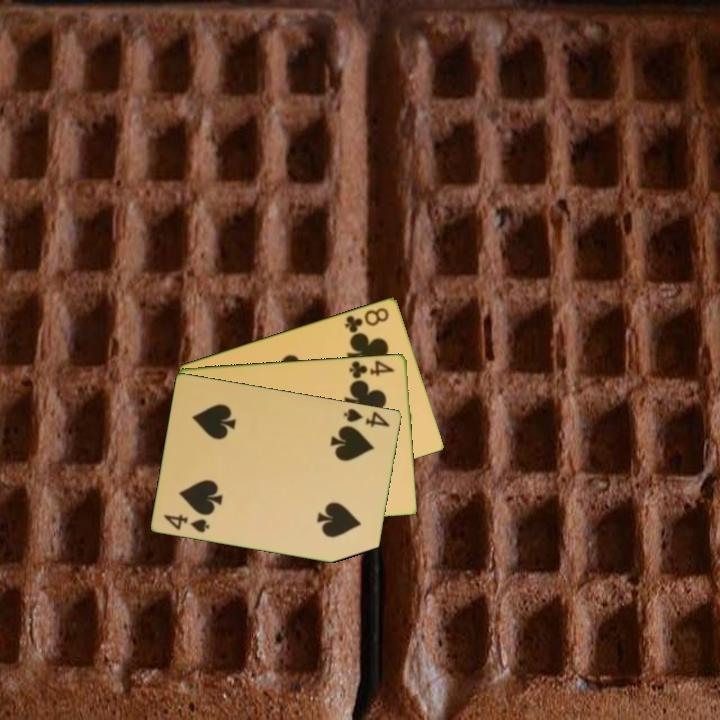4c: (346, 357, 398, 381)
4s: (340, 405, 393, 430), (160, 510, 213, 535)
8c: (341, 304, 392, 335)
